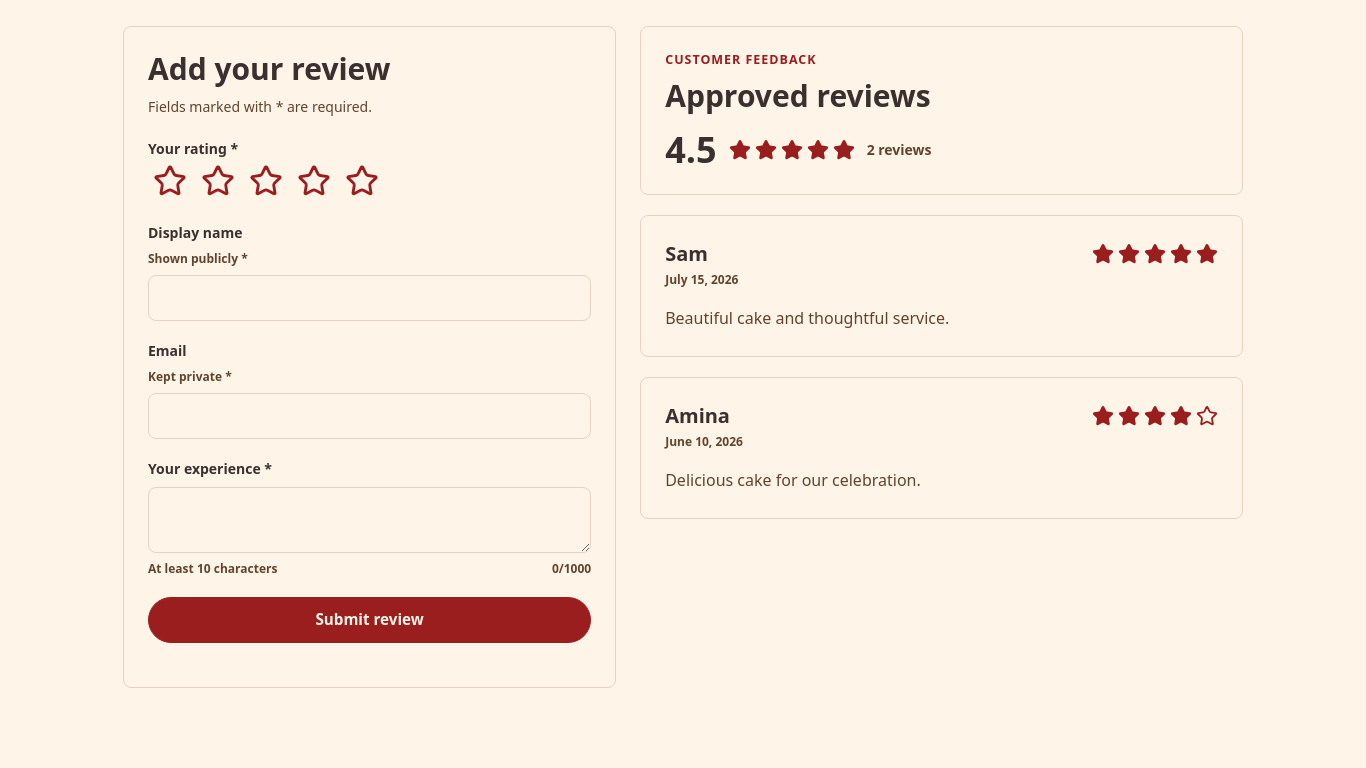
Test: ReviewsContent › shows client-side errors for every required review detail
The width and height of the screenshot is (1366, 768).
(page scrolled)
Expected: the heading "Sam" is shown, left=665, top=240, right=708, bottom=266
Click the button "Submit review" at coordinates (370, 620), box left=148, top=597, right=591, bottom=643
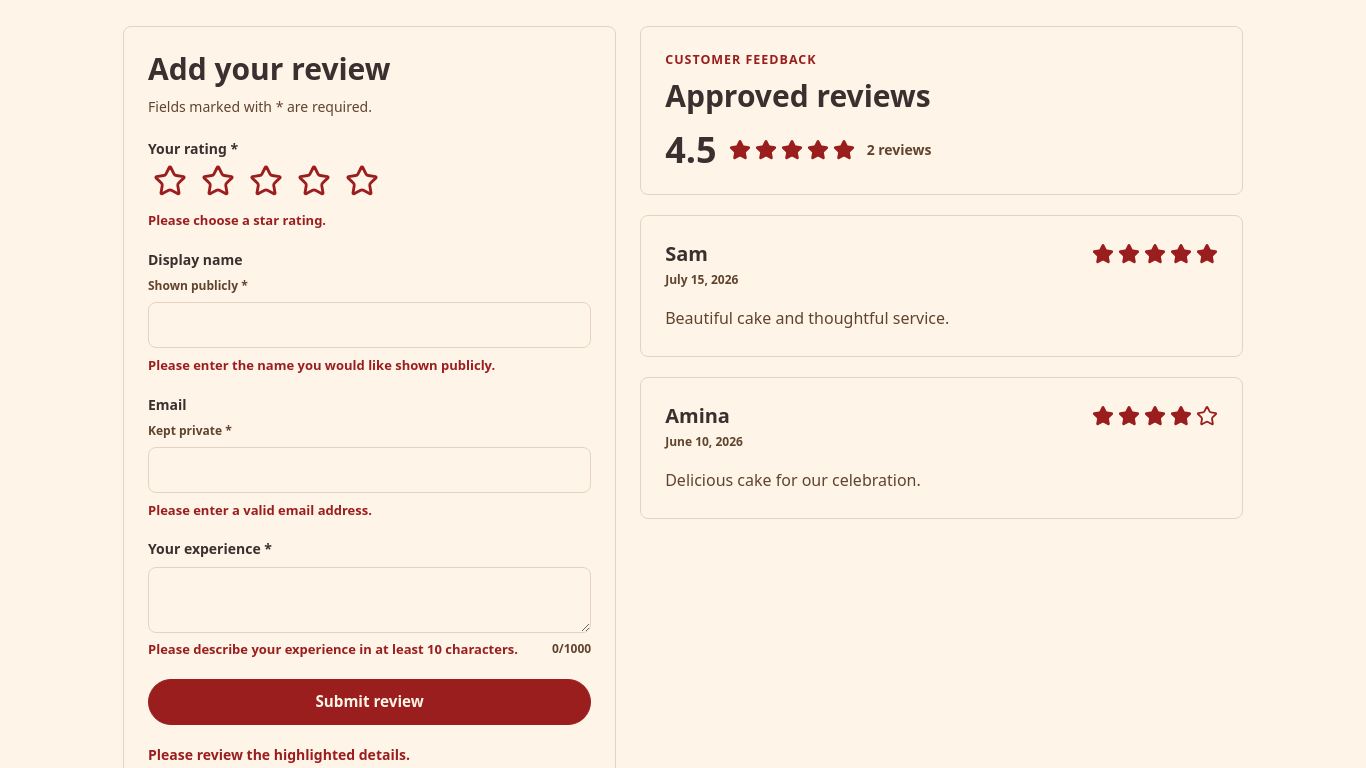
Now the text "Please choose a star rating." is shown, box left=148, top=211, right=326, bottom=229
Now the text "Please enter the name you would like shown publicly." is shown, box left=148, top=356, right=495, bottom=374
Now the text "Please enter a valid email address." is shown, box left=148, top=501, right=372, bottom=519
